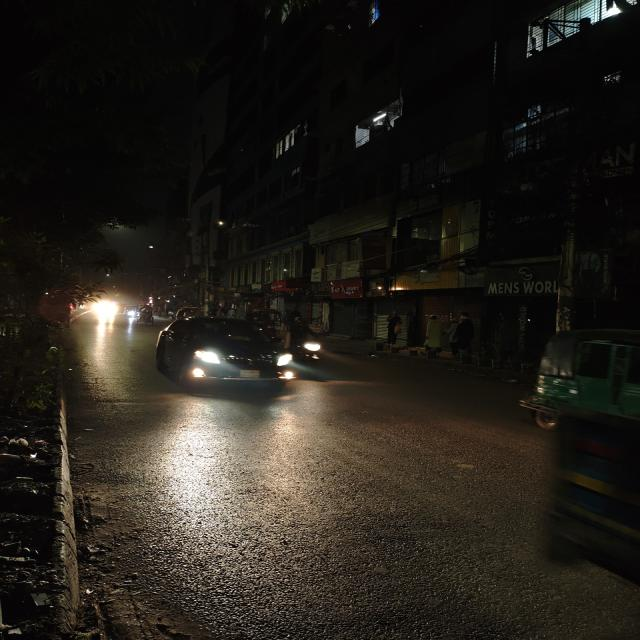car: (152, 315, 293, 396)
cng: (123, 305, 139, 318)
motorcycle: (281, 313, 330, 365)
pedestrian: (448, 310, 479, 363), (420, 312, 448, 358), (380, 309, 407, 352)
rickshaw: (250, 307, 282, 335), (138, 305, 155, 326), (176, 306, 199, 320)
